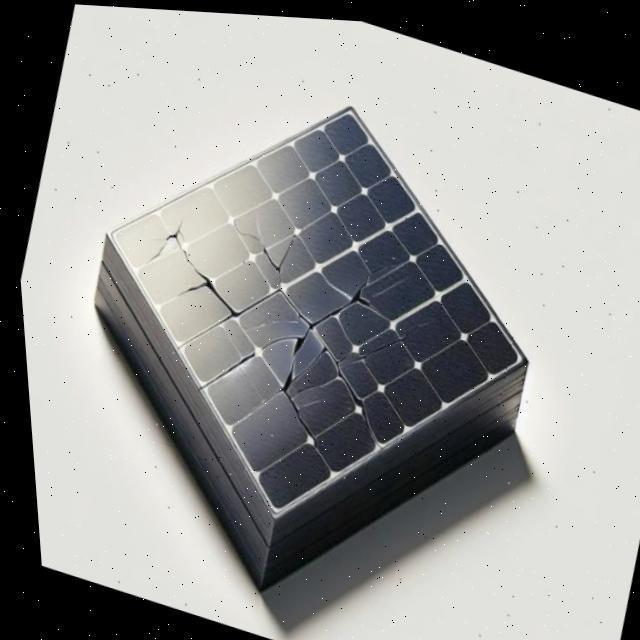Anomaly Solar Panel: (88, 88, 519, 509)
Structural Damage: (124, 203, 228, 328), (238, 309, 329, 444), (213, 194, 300, 284), (319, 252, 406, 333), (332, 308, 428, 370), (326, 357, 381, 444), (237, 310, 294, 328)
